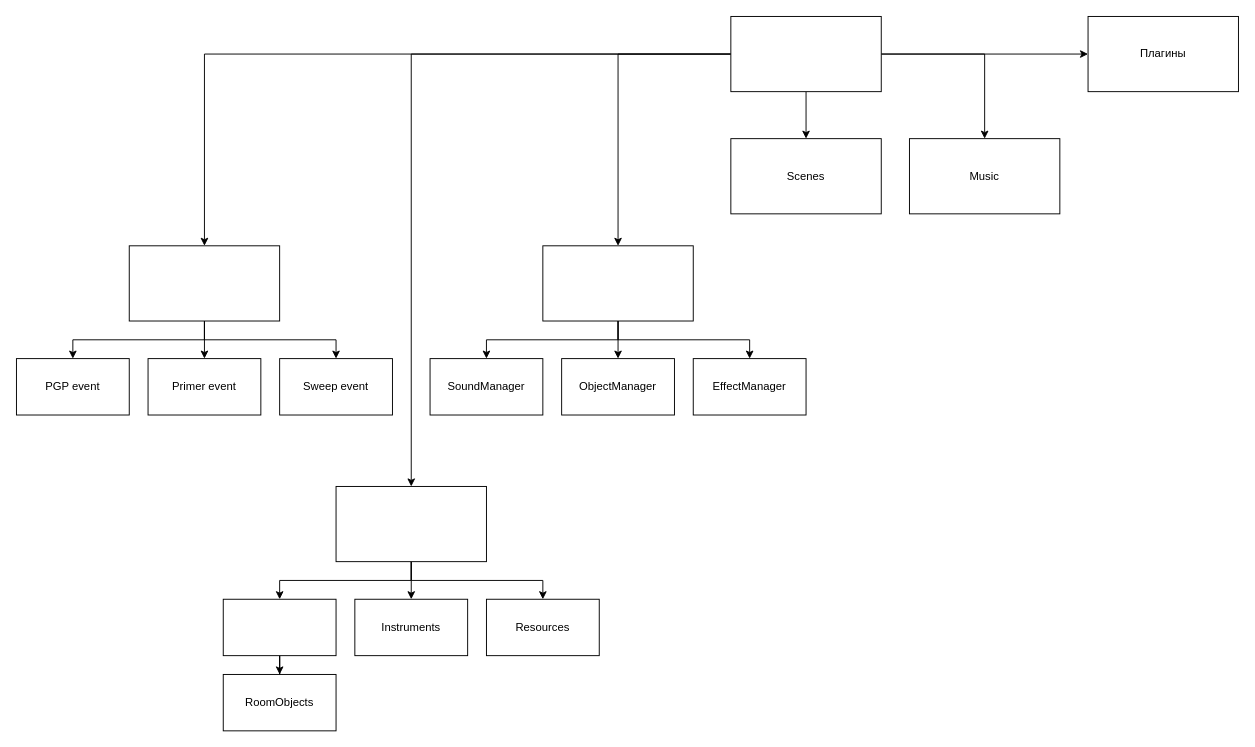
This 1255x747 diagram has some shape labels left out. Each missing label, with the centre of its shape:
"Assets" goes at (x=805, y=54).
"Events" goes at (x=204, y=283).
"Managers" goes at (x=617, y=283).
"Objects" goes at (x=410, y=524).
"Room" goes at (x=279, y=627).
